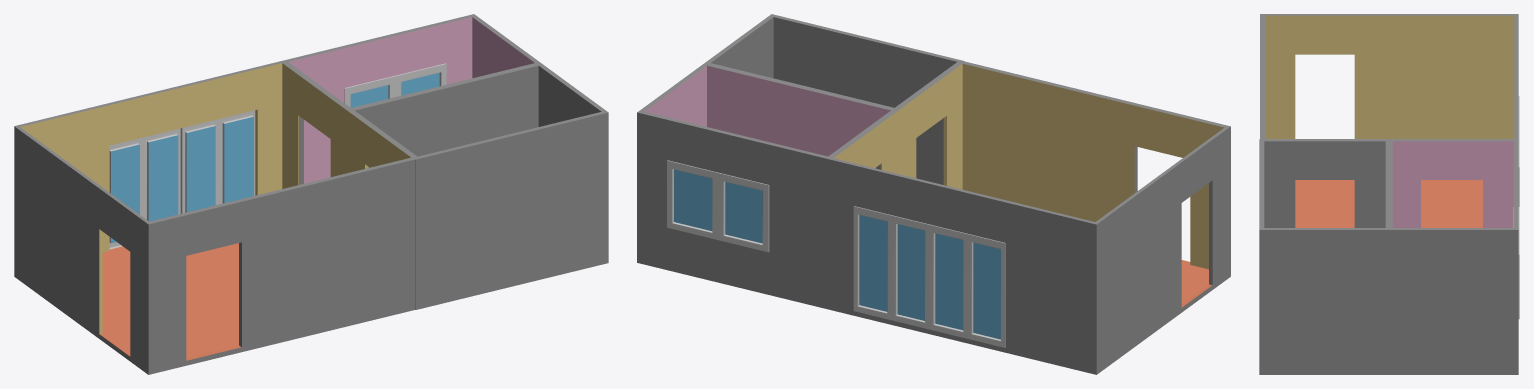
File: FlatReunited2.fbx
The picture shows the model from 3 angles, left to right: view 1: azimuth 30°, elevation 25°; view 2: azimuth 150°, elevation 25°; view 3: azimuth 270°, elevation 25°; orthographic projection. The views are drawn at different scales.
Parts seen in each view (by area): view 1: ReunitedFlat_2; view 2: ReunitedFlat_2; view 3: ReunitedFlat_2.
Part boxes in pixels (x1=…): ReunitedFlat_2: x1=14, y1=14, x2=608, y2=374; ReunitedFlat_2: x1=637, y1=14, x2=1230, y2=374; ReunitedFlat_2: x1=1259, y1=14, x2=1519, y2=374.
Bounding box in the file's own units: 1151 × 360 × 586.
